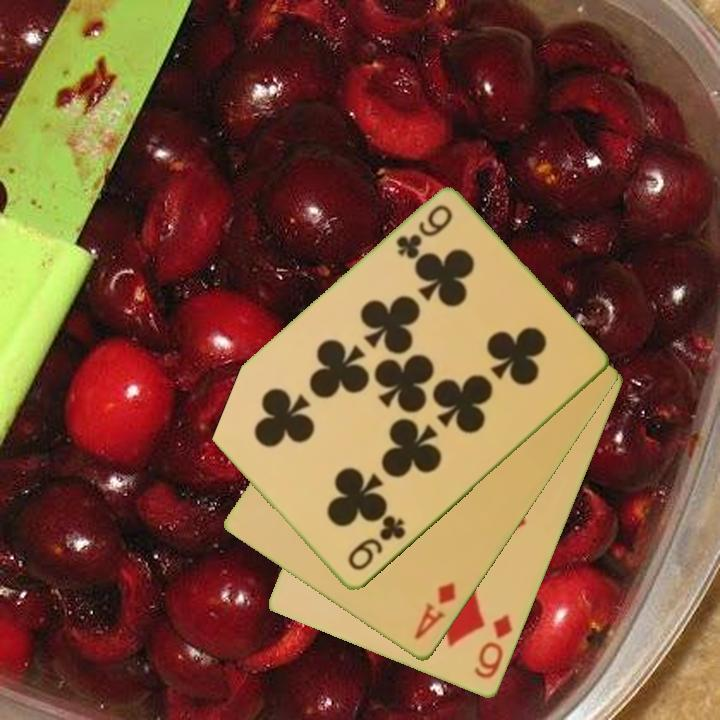6d: (471, 611, 516, 683)
9c: (344, 512, 409, 574), (392, 201, 456, 263)
Ad: (410, 579, 459, 644)
